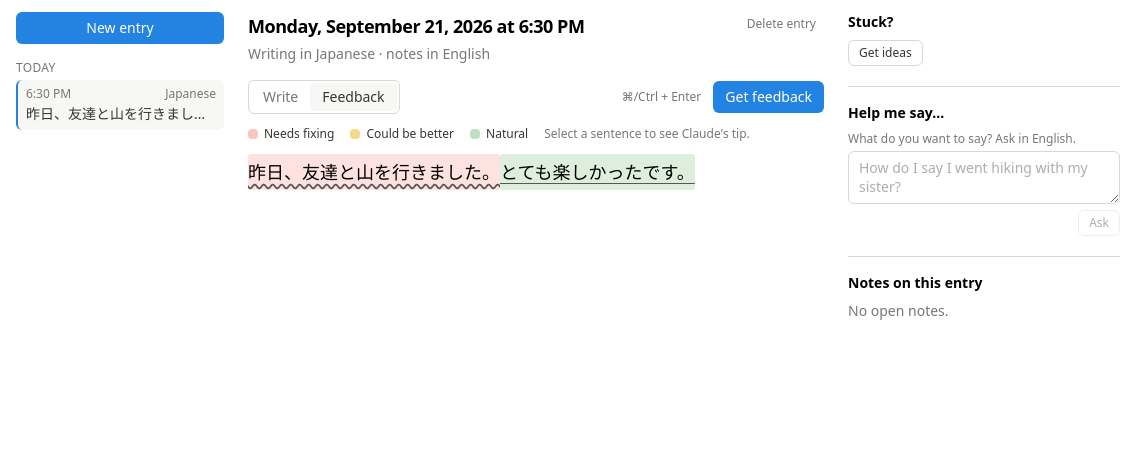
Test: DiaryView › says when the text has changed since the feedback
Click the button "Write" at (281, 97), box [251,83,310,111]
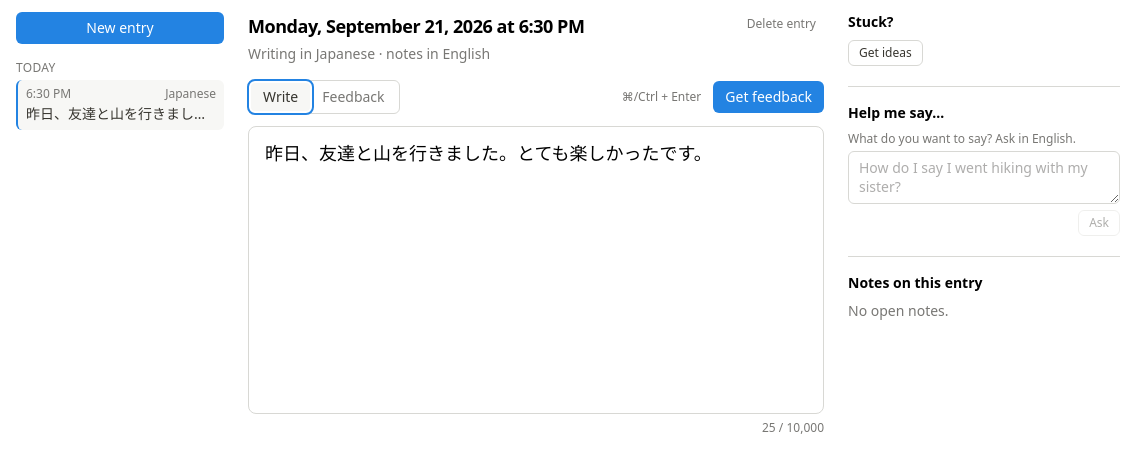
Type "雨でした。" into the text box named "Diary entry" at (536, 270), box [248,126,824,414]
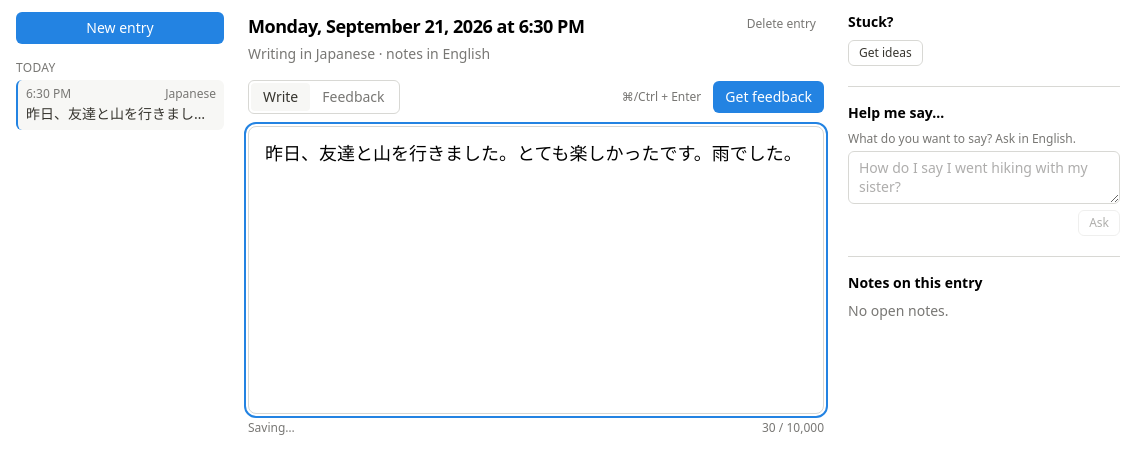
Click the button "Feedback" at (353, 97), box [310,83,396,111]
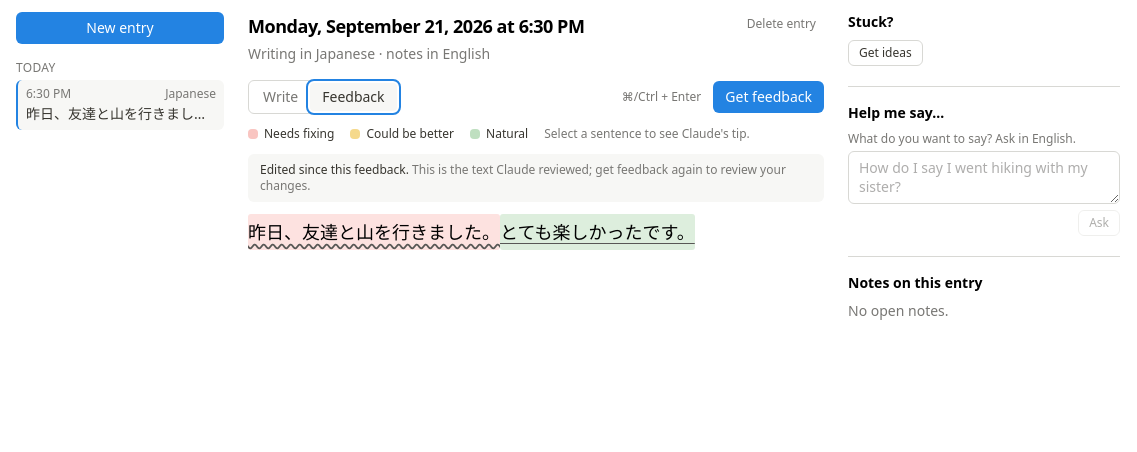
expect the text "Edited since this feedback." is shown: met, box [260,161,409,178]
